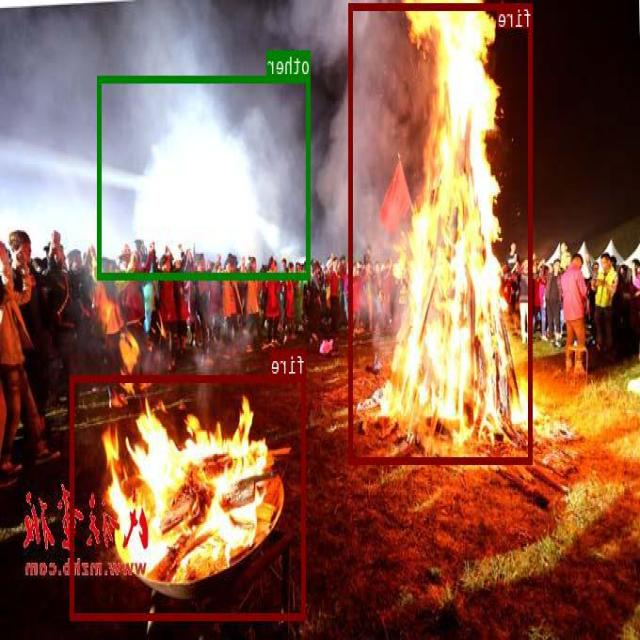fire: (350, 1, 533, 462), (71, 374, 306, 618)
other: (99, 75, 311, 278)
